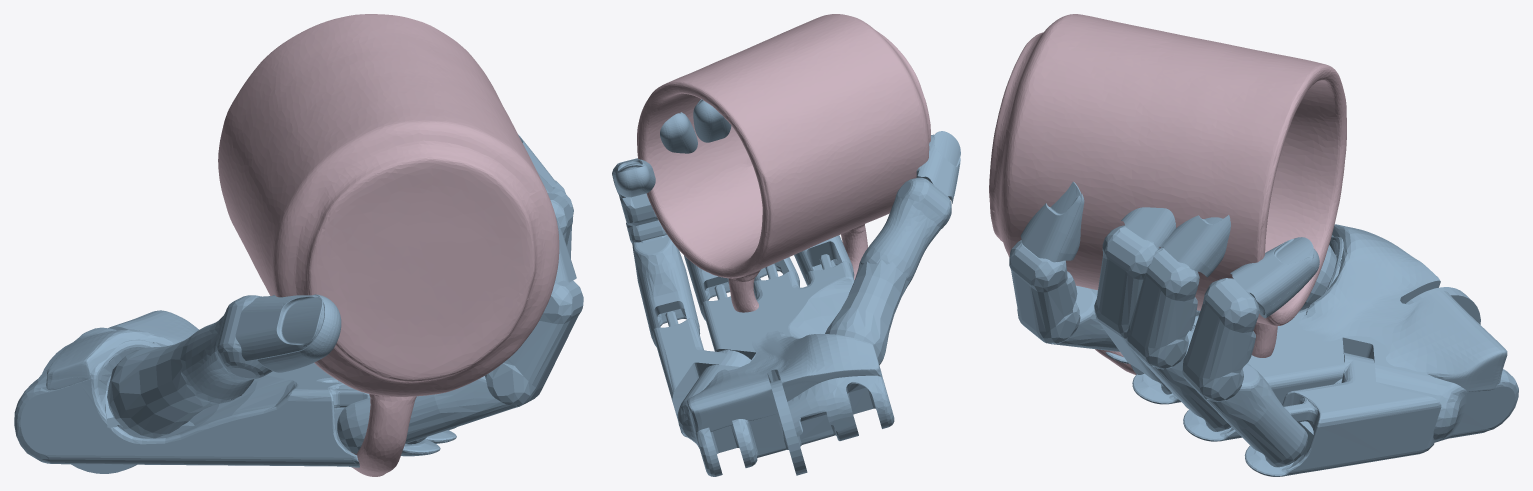
3 renders of one model, left to right at view 1: azimuth 30°, elevation 25°; view 2: azimuth 150°, elevation 25°; view 3: azimuth 270°, elevation 25°, orthographic. The views are drawn at different scales.
Visible parts, largest first — view 1: obj_mesh_grasp_0.obj, world; view 2: world, obj_mesh_grasp_0.obj; view 3: world, obj_mesh_grasp_0.obj.
Boxes of the visible parts, bbox=[...] form: obj_mesh_grasp_0.obj: bbox=[218, 14, 559, 476]; world: bbox=[14, 134, 583, 473]; world: bbox=[612, 99, 960, 476]; obj_mesh_grasp_0.obj: bbox=[637, 14, 930, 312]; world: bbox=[1009, 181, 1518, 476]; obj_mesh_grasp_0.obj: bbox=[989, 14, 1346, 374].
Bounding box in the file's own units: 0.154 × 0.1461 × 0.1661.
